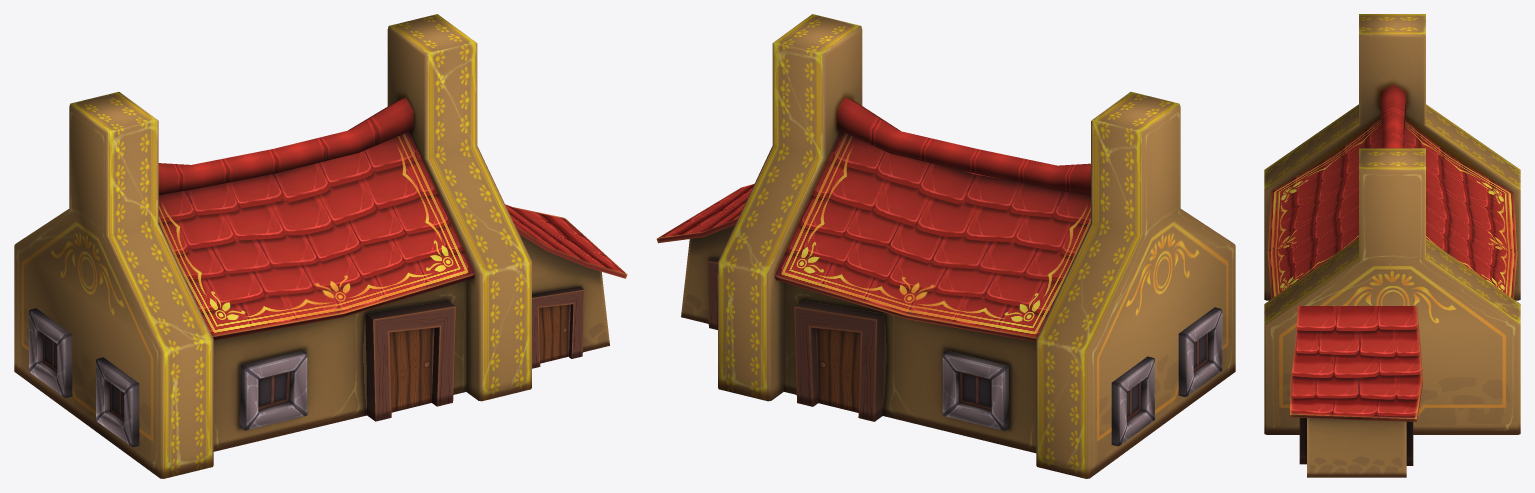
File: House_05.FBX
3 renders of one model, left to right at view 1: azimuth 30°, elevation 25°; view 2: azimuth 150°, elevation 25°; view 3: azimuth 270°, elevation 25°, orthographic. The views are drawn at different scales.
Visible parts, largest first — view 1: House_05; view 2: House_05; view 3: House_05.
Part boxes in pixels (x1=…): House_05: x1=14, y1=14, x2=627, y2=478; House_05: x1=656, y1=14, x2=1235, y2=478; House_05: x1=1264, y1=14, x2=1520, y2=477.
Bounding box in the file's own units: 2.71 × 1.6 × 1.39.
